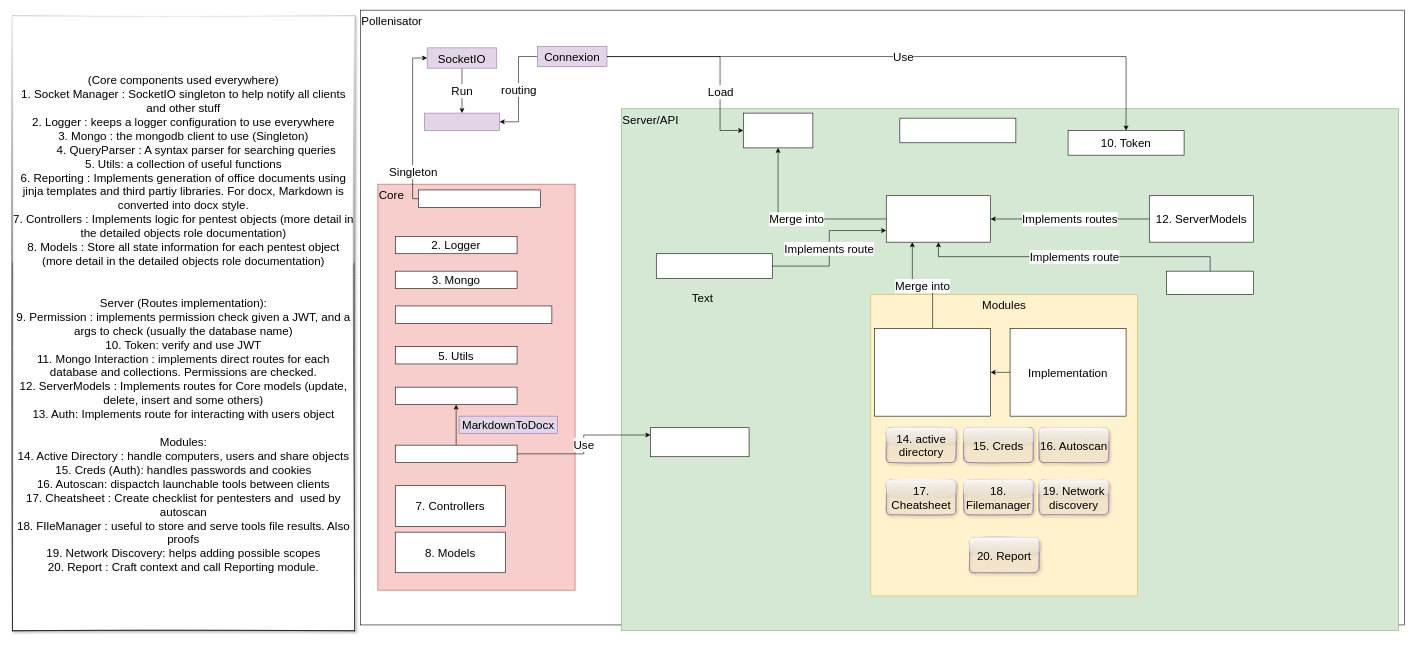
This 1415x645 diagram has some shape labels left out. The shapes that lost their labels are listed below. From the top down, each one's centre as x and y in pixels, then its label:
At (462,121): "Flask".
At (778,130): "app.yaml".
At (957,130): "9. Permission".
At (479,198): "1. SocketManager".
At (938,218): "YAML for core Models".
At (714,265): "11. Mongo Interaction".
At (1210,282): "13. Auth".
At (473,314): "4. QueryParser (Parser)".
At (932,372): "Module_yaml".
At (456,396): "6. Reporting".
At (456,454): "Excel, Word, Pptx".
At (699,442): "Templates Jinja".
